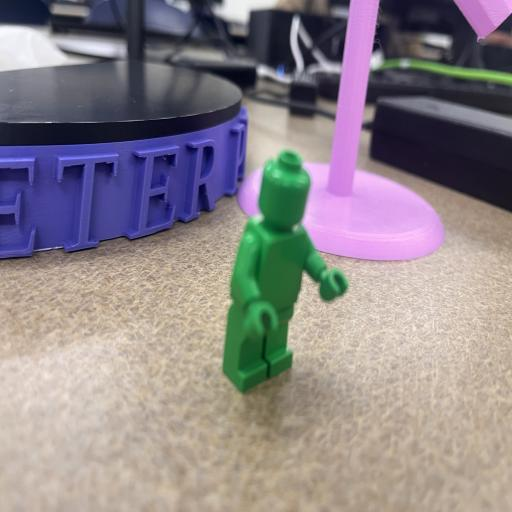Lego-Minifig: (223, 151, 348, 392)
